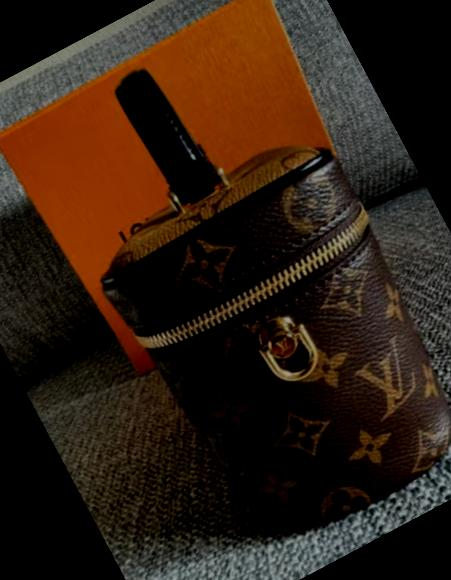LOUIS-VUITTON: (93, 148, 451, 569)
